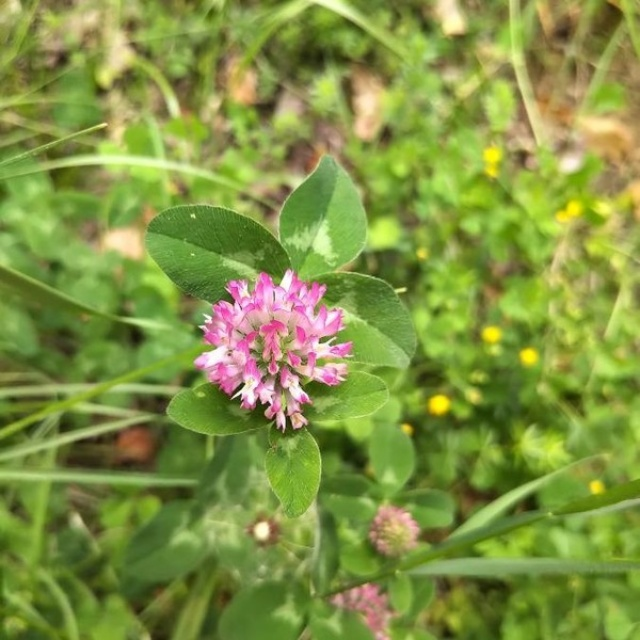obstacle: (173, 178, 436, 487)
